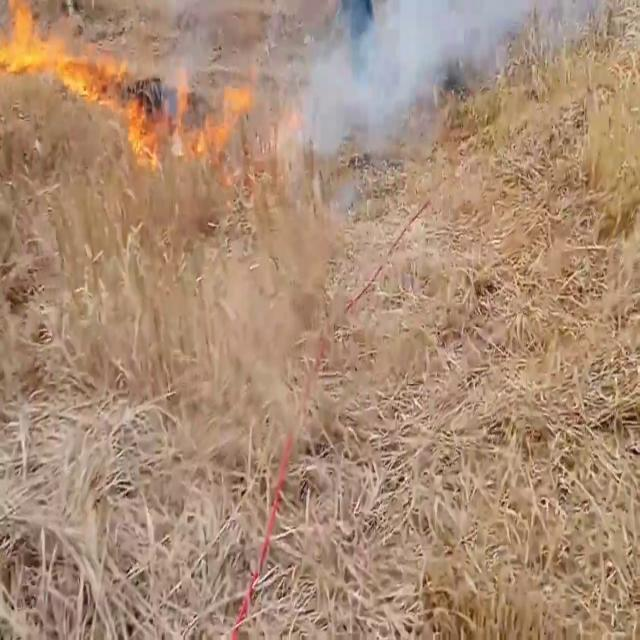Fire: (0, 0, 124, 100), (118, 81, 194, 170), (199, 75, 256, 186)
Smoke: (288, 0, 632, 164)
